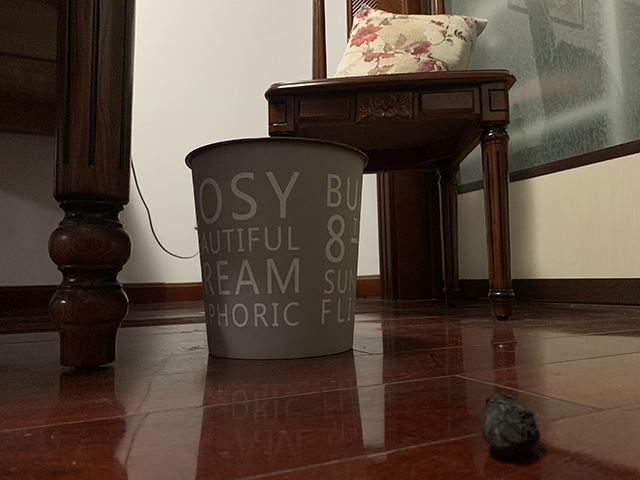feces: (479, 393, 542, 458)
stool: (264, 1, 517, 324)
trashcan: (183, 136, 369, 361)
